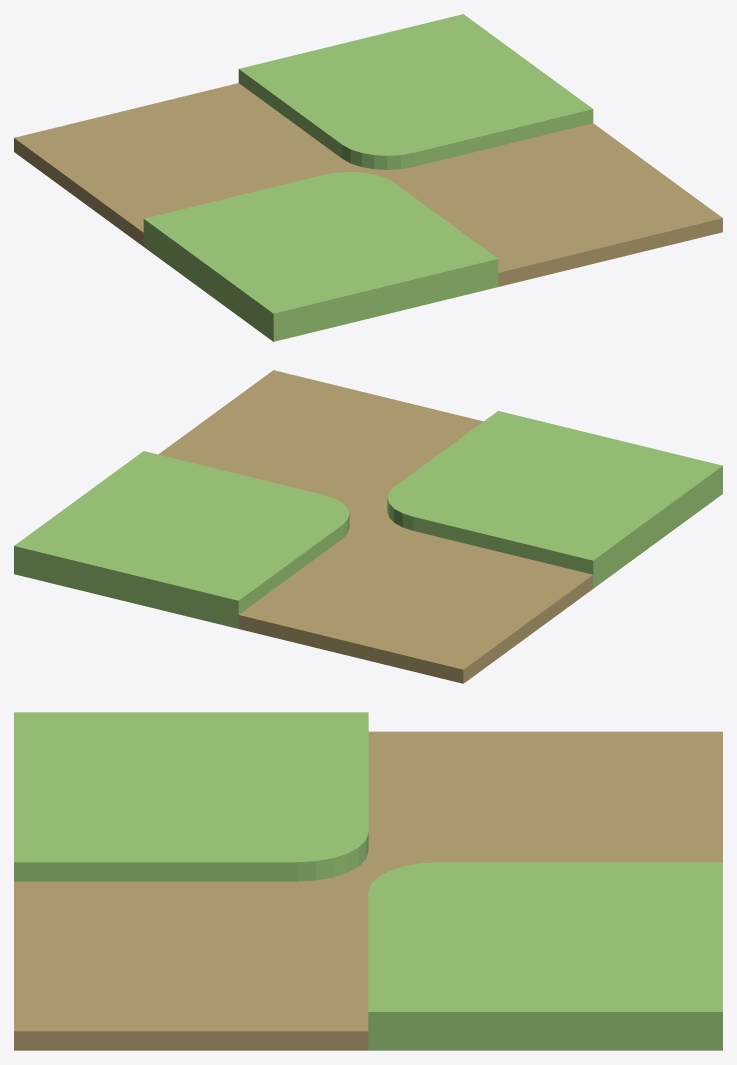
File: Grass_Soil_Tile_4.fbx
The picture shows the model from 3 angles, top to bottom: view 1: azimuth 30°, elevation 25°; view 2: azimuth 150°, elevation 25°; view 3: azimuth 270°, elevation 25°; orthographic projection. The views are drawn at different scales.
Visible parts, largest first — view 1: Base.004; view 2: Base.004; view 3: Base.004.
Part boxes in pixels (x1,y1,x2,y2): Base.004: (14,14,722,341); Base.004: (14,370,722,683); Base.004: (14,712,722,1050).
Bounding box in the file's own units: 1 × 1 × 0.06.
